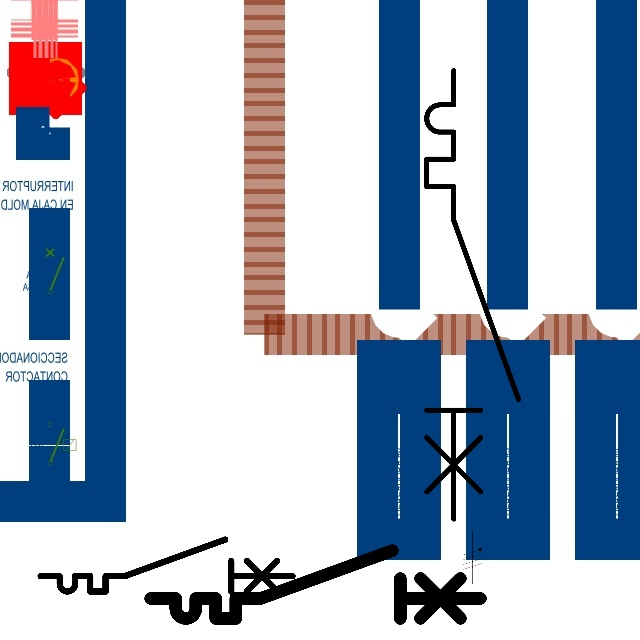interruptor_termomagnetico: (415, 59, 530, 530), (142, 542, 489, 627), (34, 533, 299, 598)
